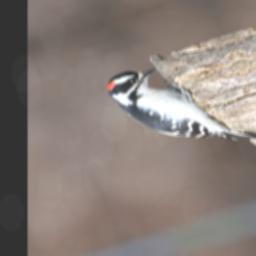Woodpecker: (98, 42, 256, 178)
